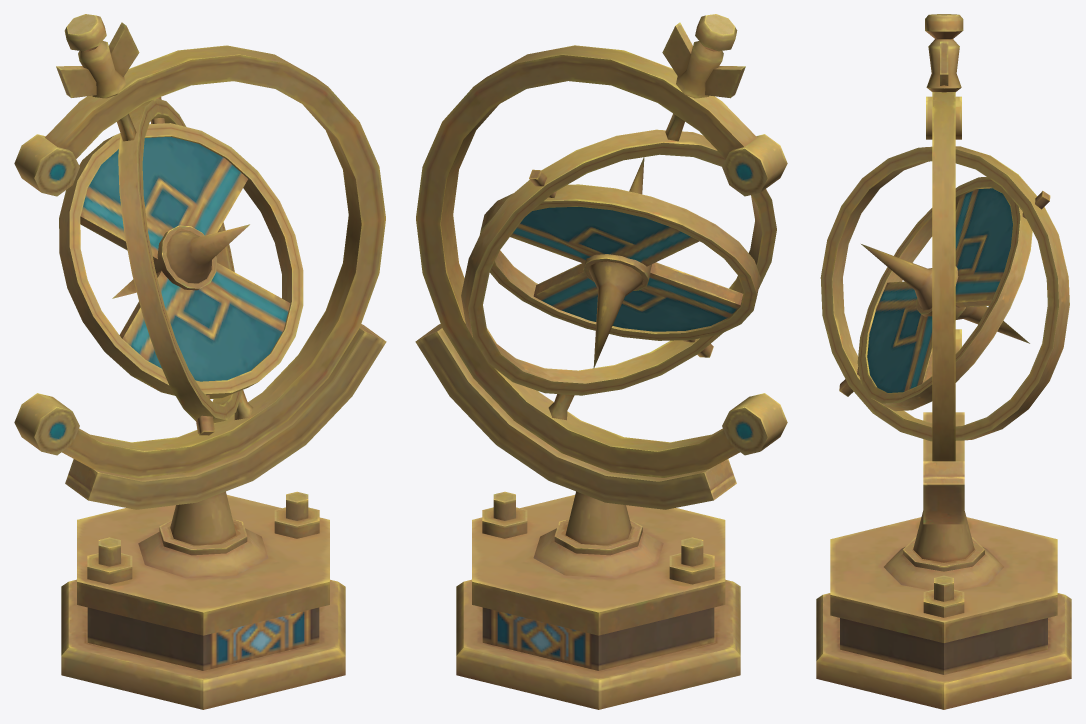
The model's file is Homeworld_Interior_Fd_Decoration_Prop_SYiqi_01_Vo.fbx.
The picture shows the model from 3 angles, left to right: view 1: azimuth 30°, elevation 25°; view 2: azimuth 150°, elevation 25°; view 3: azimuth 270°, elevation 25°; orthographic projection. The views are drawn at different scales.
Visible parts, largest first — view 1: Indoor_Fd_Prop_Yiqi_A_02_Vo; view 2: Indoor_Fd_Prop_Yiqi_A_02_Vo; view 3: Indoor_Fd_Prop_Yiqi_A_02_Vo.
Boxes of the visible parts, x1,y1,x2,y2 form: Indoor_Fd_Prop_Yiqi_A_02_Vo: (14,14,386,709); Indoor_Fd_Prop_Yiqi_A_02_Vo: (415,14,787,709); Indoor_Fd_Prop_Yiqi_A_02_Vo: (816,14,1071,709).
Bounding box in the file's own units: 1.2 × 2.11 × 0.834.
